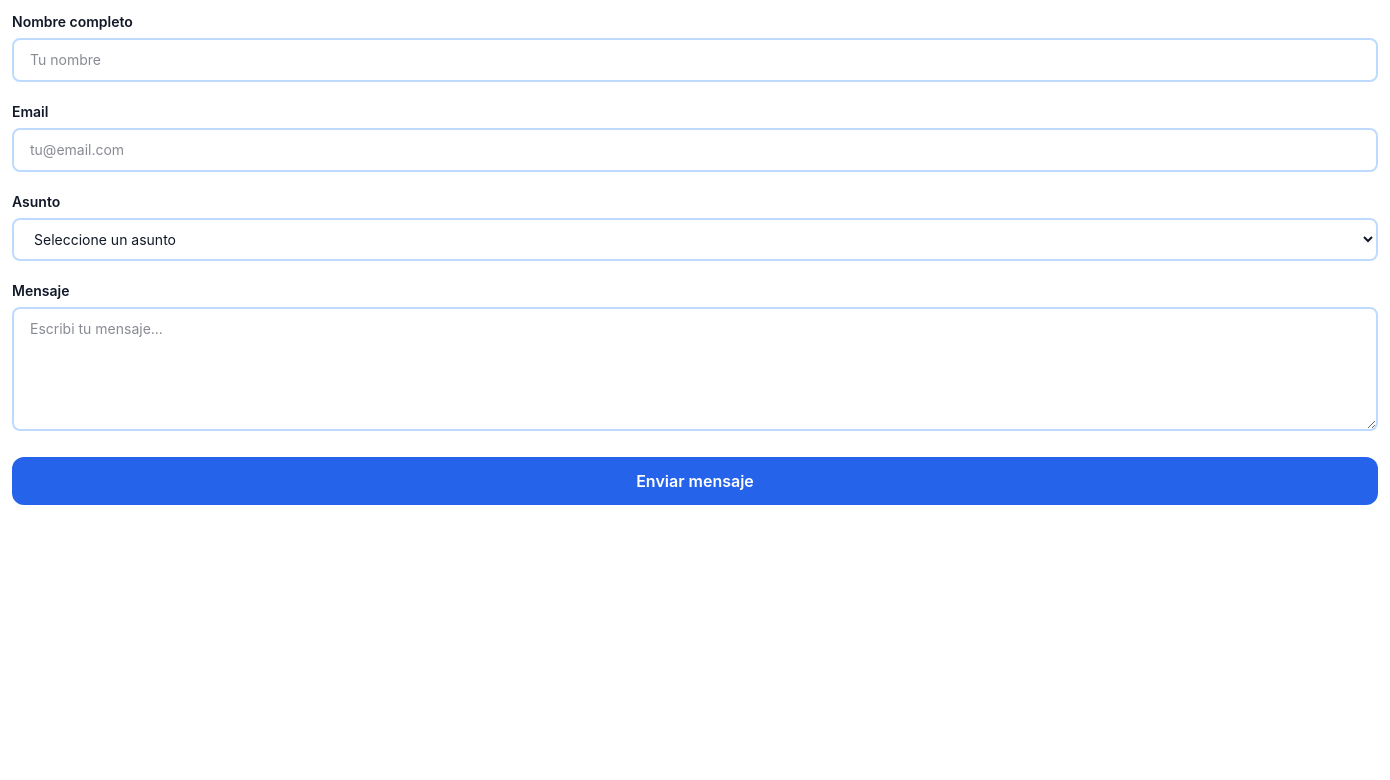
Test: ContactForm › muestra errores de validacion al enviar vacio
Click the button "Enviar mensaje" at (695, 481), box [12,457,1378,505]
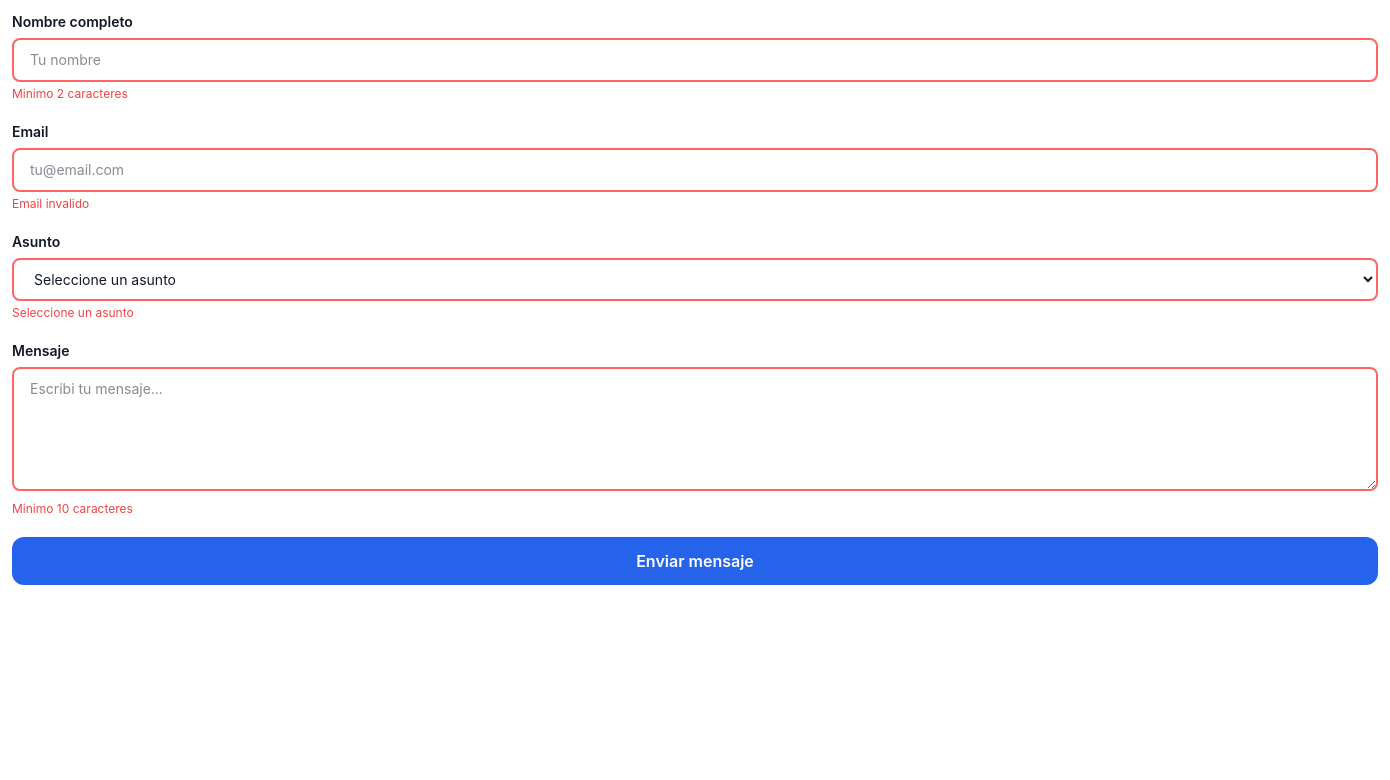
Check: the text "Minimo 2 caracteres" is shown, box [12,86,128,101]
Check: the text "Email invalido" is shown, box [12,196,89,211]
Check: the text "Minimo 10 caracteres" is shown, box [12,501,133,516]
